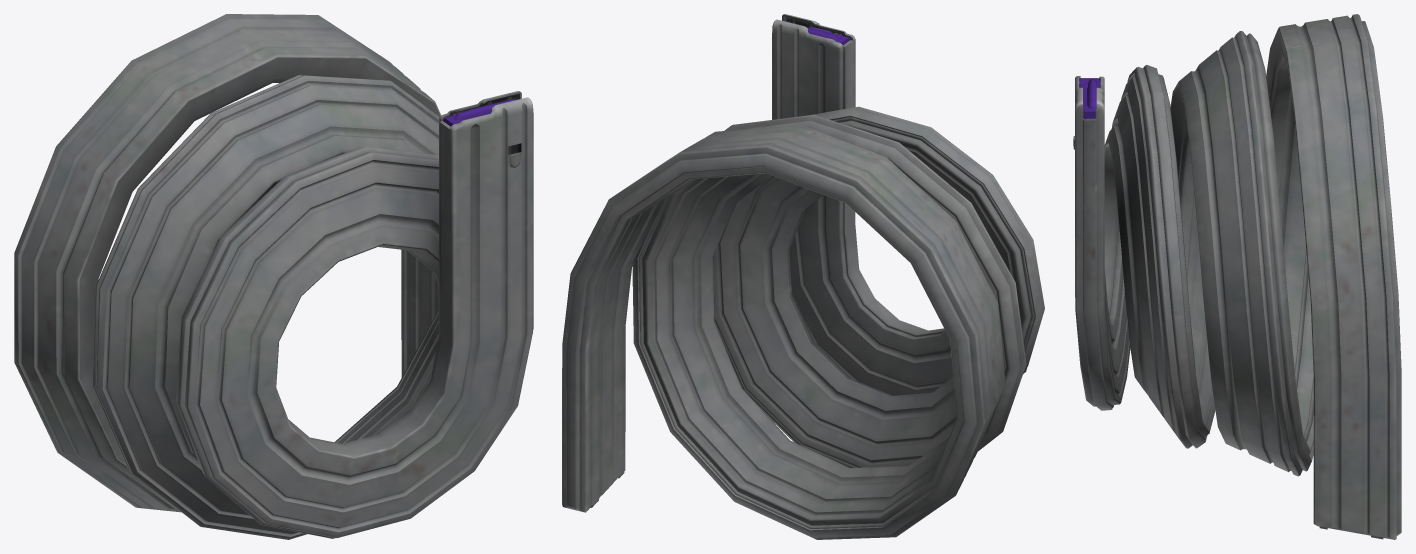
The model's file is stanag451.obj.
3 views of the same model, side by side, from view 1: azimuth 30°, elevation 25°; view 2: azimuth 150°, elevation 25°; view 3: azimuth 270°, elevation 25° (orthographic). The views are drawn at different scales.
Visible parts, largest first — view 1: Magazine???; view 2: Magazine???; view 3: Magazine???, Magazine???_follower.
Boxes of the visible parts, box(x1,y1,x2,y2) form: Magazine???: box(14, 14, 533, 539); Magazine???: box(562, 14, 1044, 539); Magazine???: box(1073, 14, 1401, 539); Magazine???_follower: box(1079, 78, 1100, 119).
Bounding box in the file's own units: 0.6576 × 0.658 × 0.4677.
